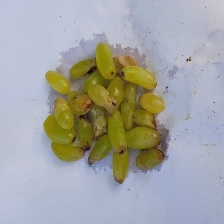grapes: (30, 30, 183, 207)
